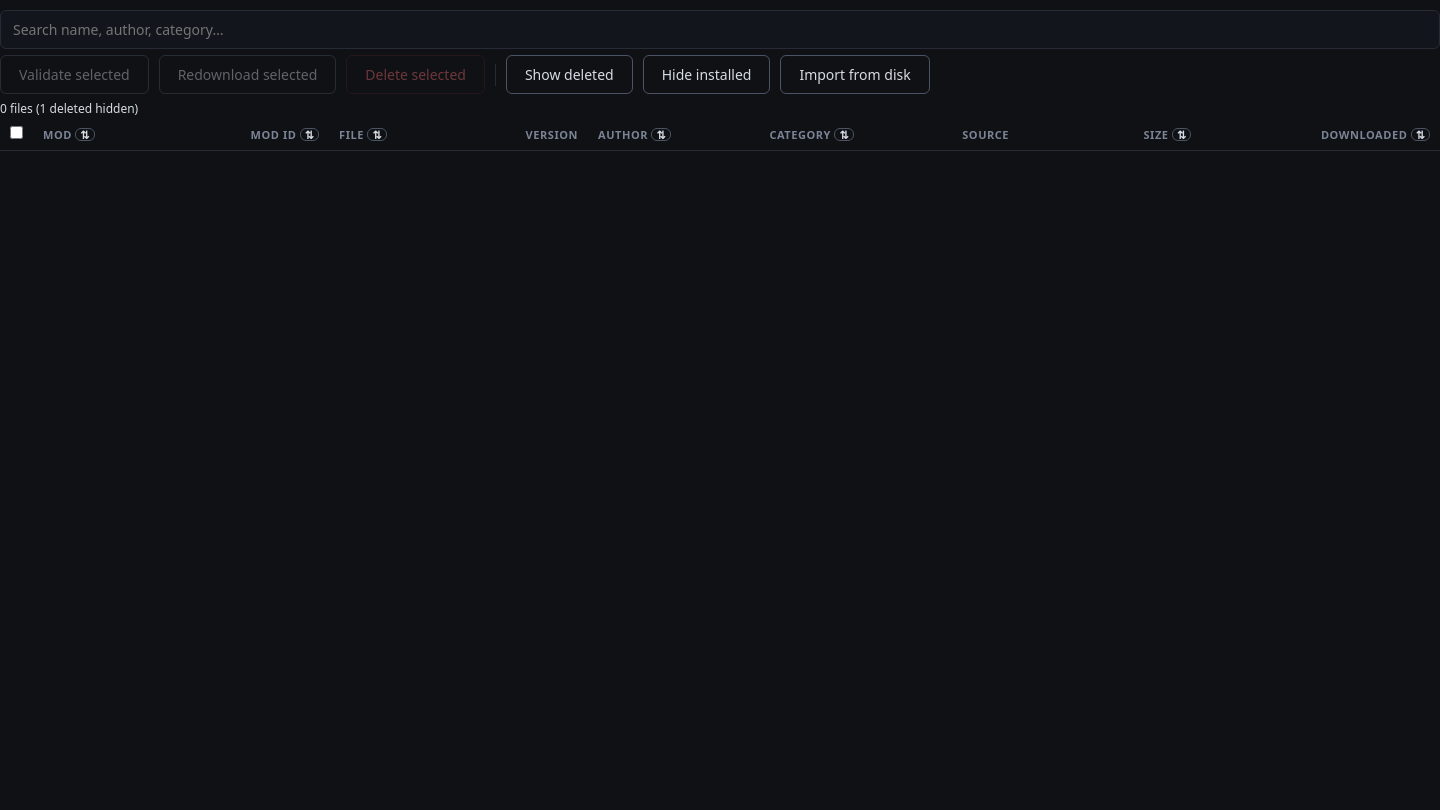
Test: LibraryTab › deleted view: Delete becomes Purge and hits /api/purge
The image size is (1440, 810).
Step 1. Click the button "Show deleted" → x=569, y=74, box [506,55,633,94]
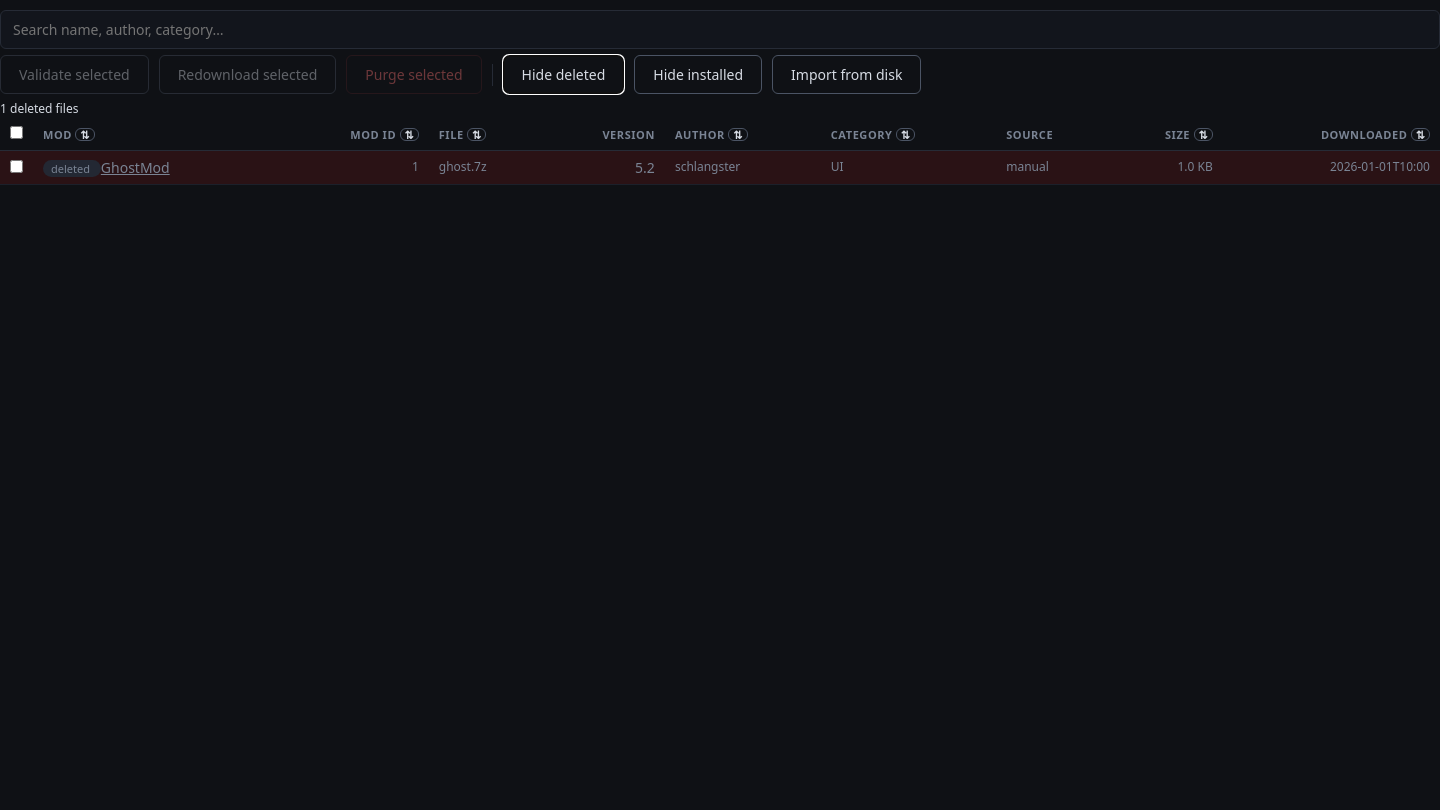
Expected: the link "GhostMod" is shown, [101,158,170,176]
Step 2. Click the checkbox named "select ghost.7z" → x=16, y=166, box [10,160,23,172]
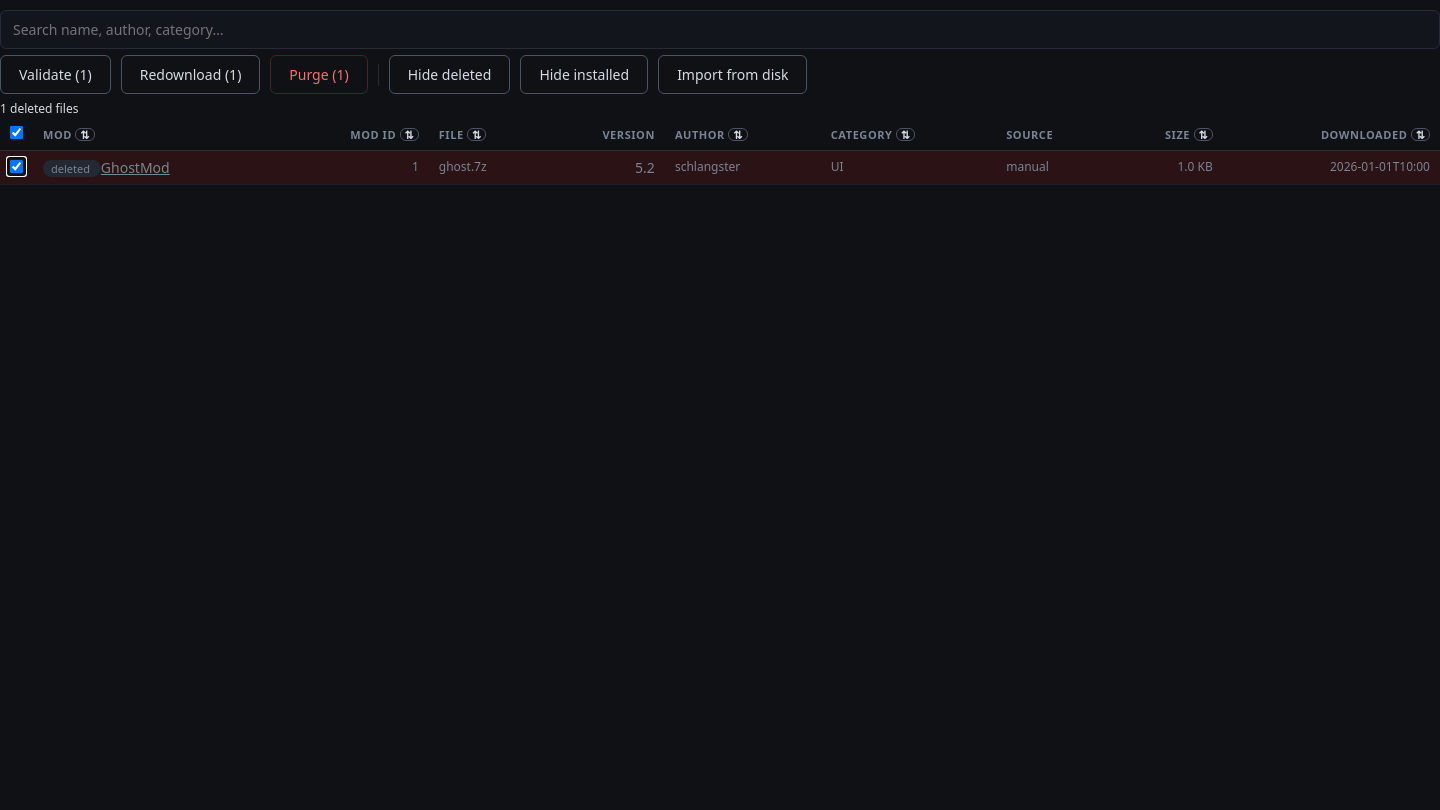
Step 3. Click the button "Purge (1)" → x=319, y=74, box [270,55,368,94]
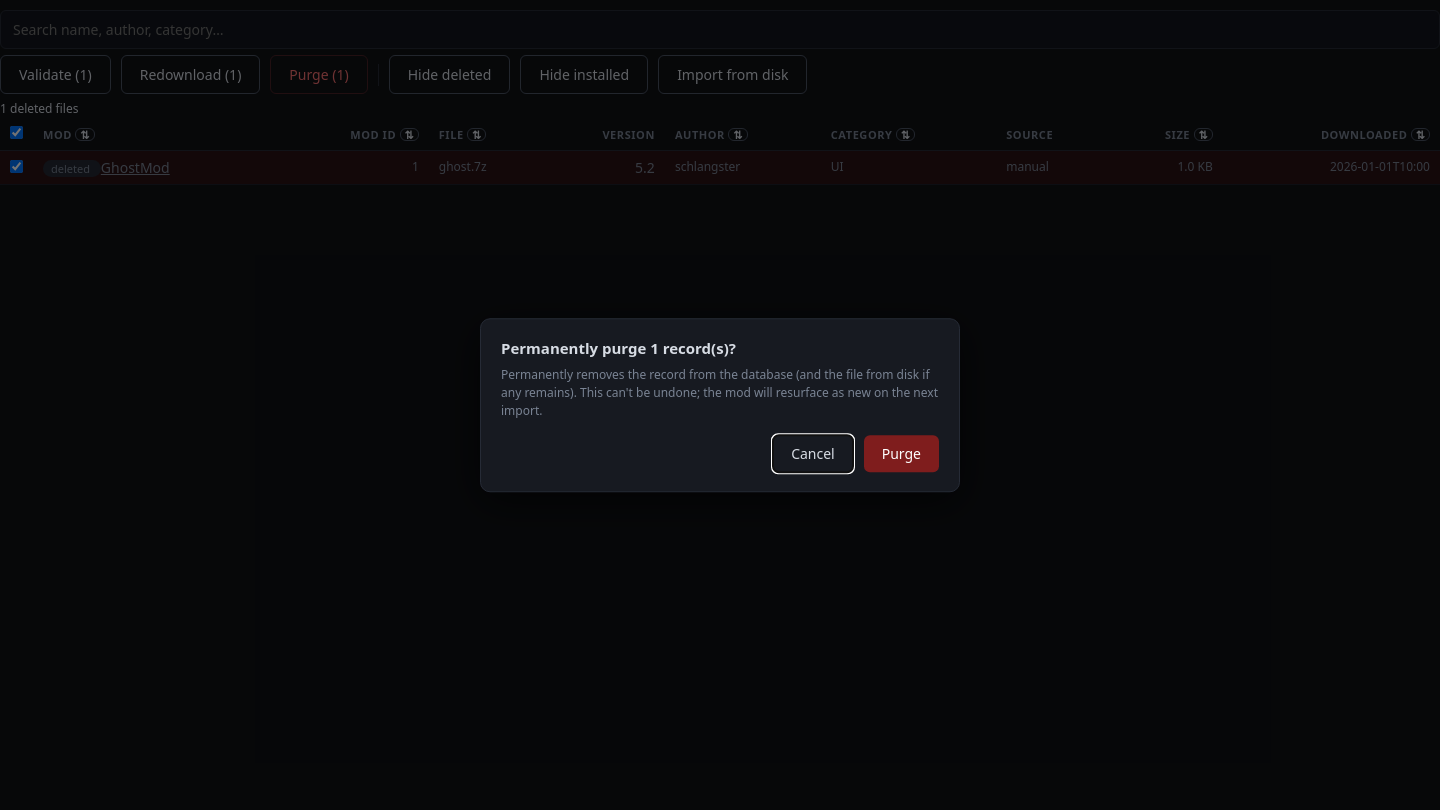
Expected: the heading "Permanently purge 1 record(s)?" is shown, [501,338,736,358]
Step 4. Click the button "Purge" → x=901, y=453, box [864,435,939,472]
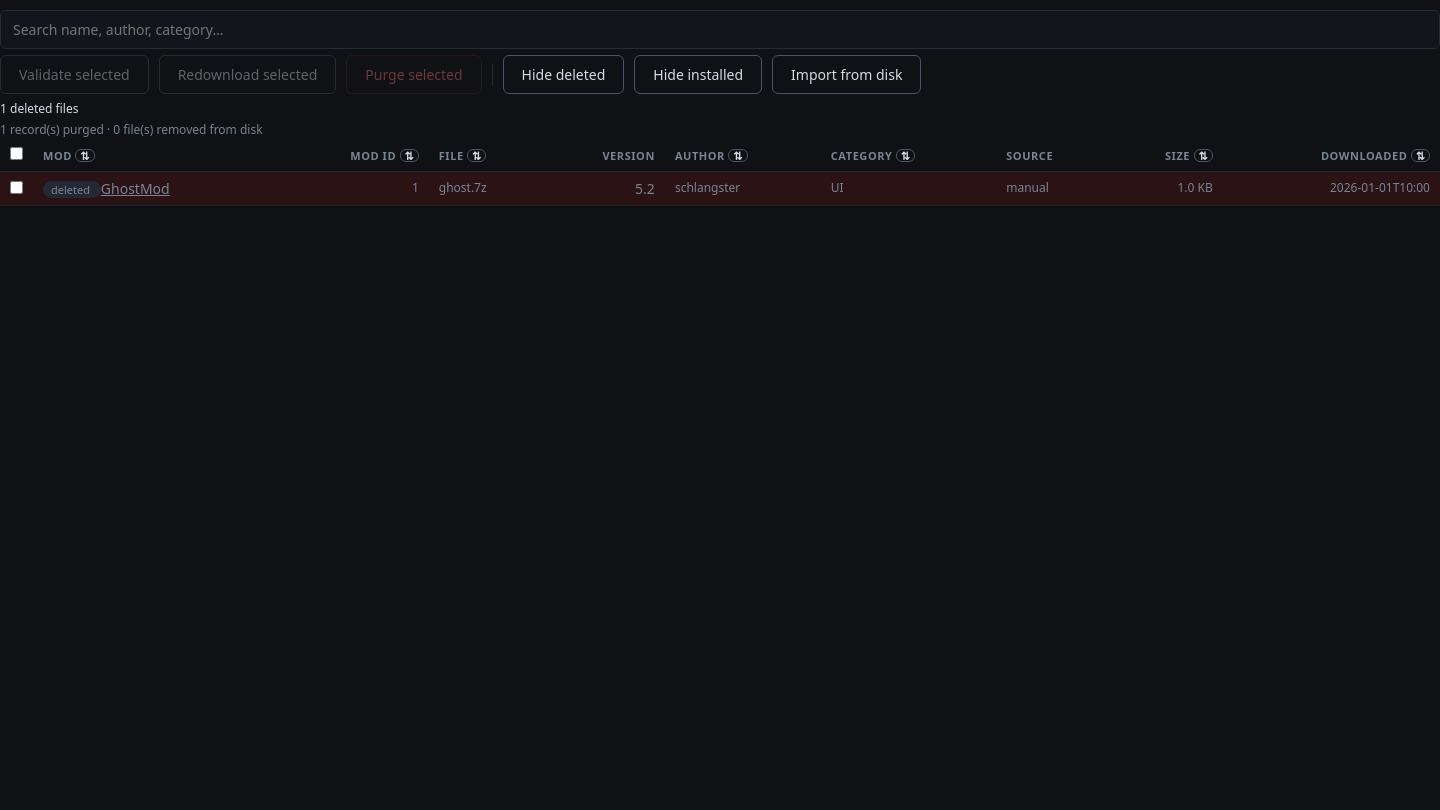
Expected: the text "1 record(s) purged · 0 file(s) removed from disk" is shown, [0,121,263,138]
